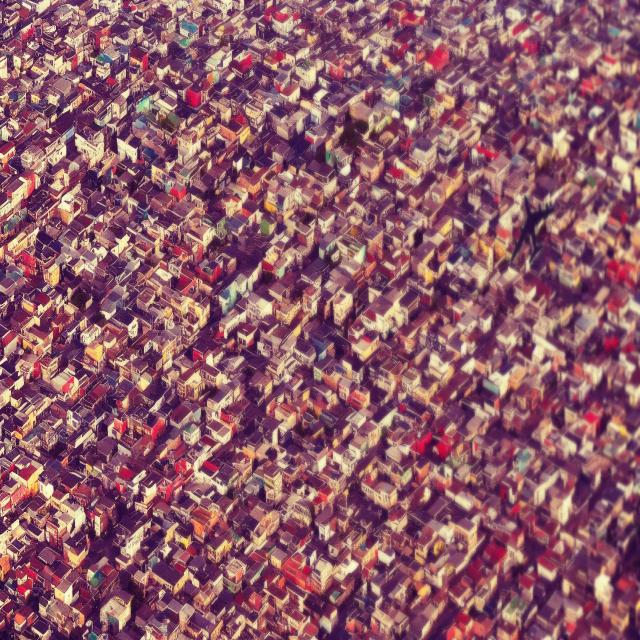airplane: (510, 194, 556, 265)
